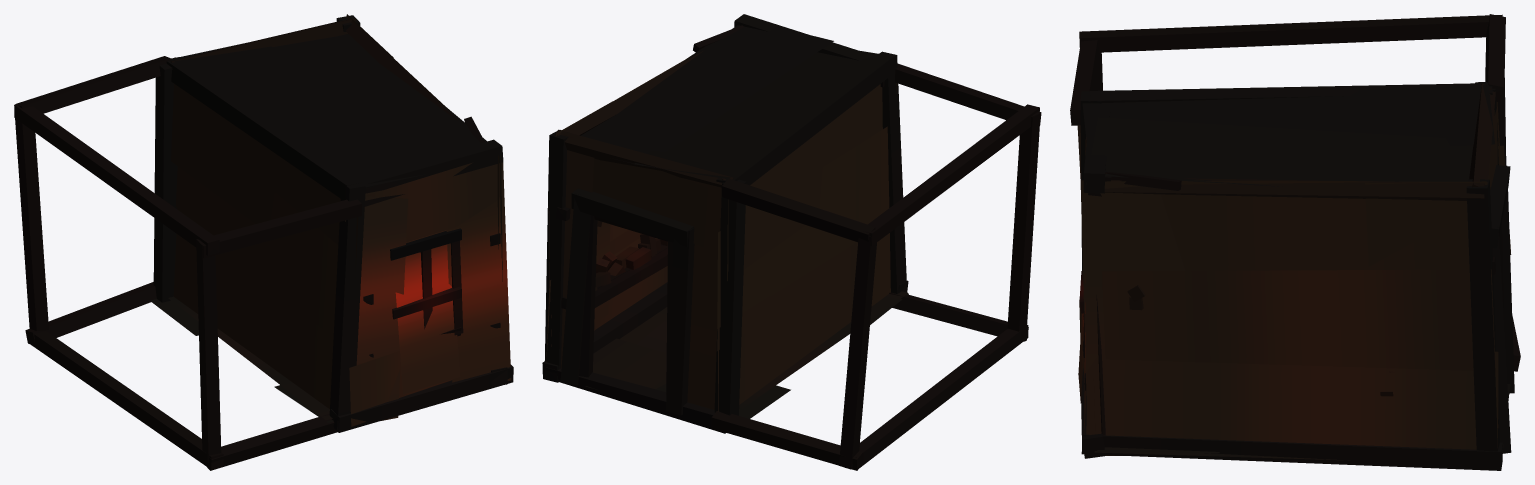
The model's file is Room_06_quill.fbx.
The picture shows the model from 3 angles, left to right: view 1: azimuth 30°, elevation 25°; view 2: azimuth 150°, elevation 25°; view 3: azimuth 270°, elevation 25°; orthographic projection. The views are drawn at different scales.
Visible parts, largest first — view 1: NewLayer7; view 2: NewLayer7; view 3: NewLayer7.
Part boxes in pixels (x1=…): NewLayer7: x1=14, y1=14, x2=513, y2=470; NewLayer7: x1=542, y1=14, x2=1041, y2=470; NewLayer7: x1=1070, y1=14, x2=1520, y2=470.
Bounding box in the file's own units: 0.6094 × 0.4516 × 0.6103.
